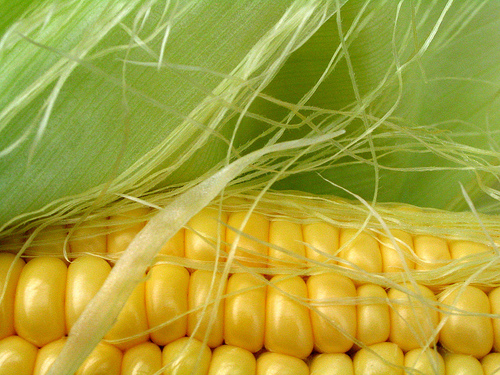corn: (0, 202, 498, 374)
